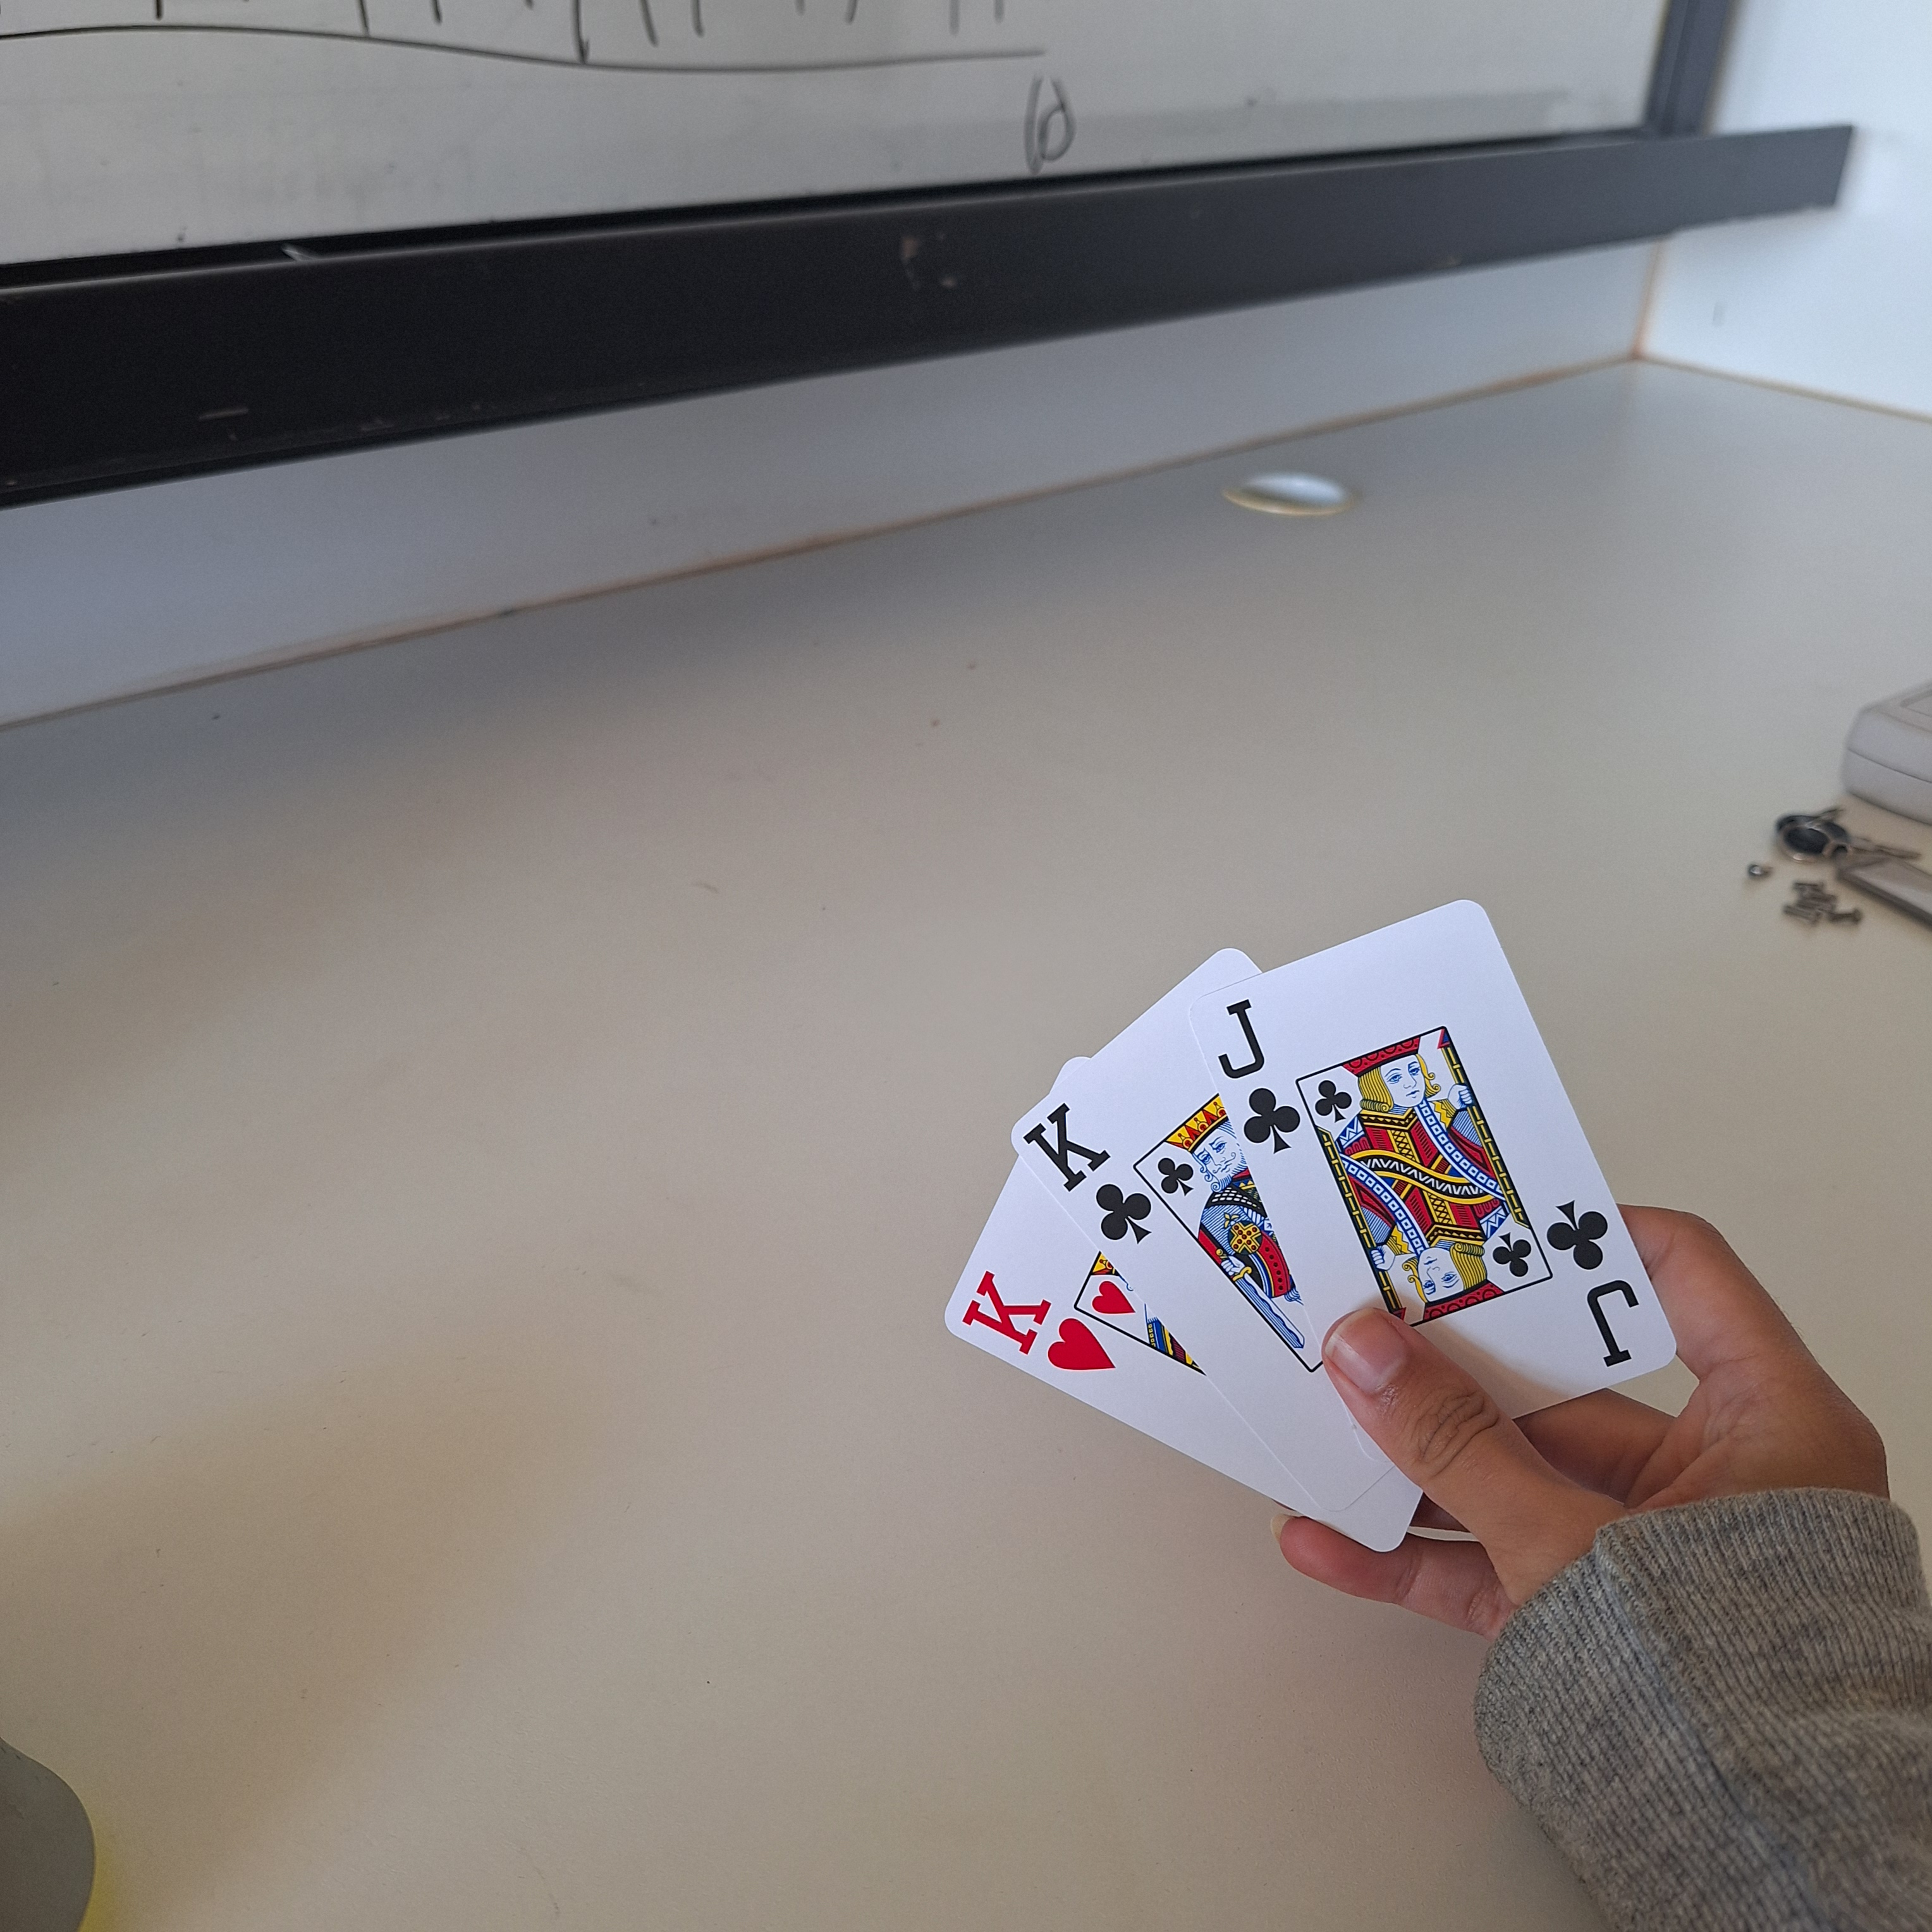JP: (1539, 1189, 1652, 1378), (1207, 991, 1304, 1162)
KC: (952, 1261, 1120, 1378)
KP: (1016, 1090, 1155, 1249)
